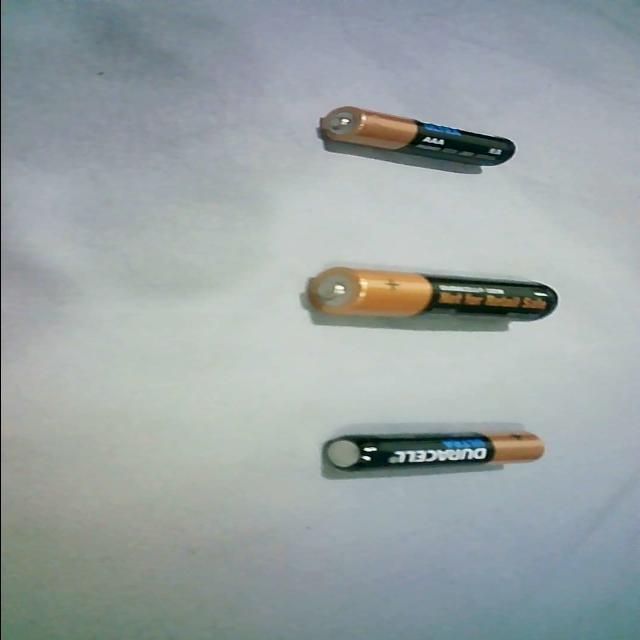AA: (296, 264, 568, 326)
AAA: (312, 101, 522, 169), (318, 424, 550, 480)
